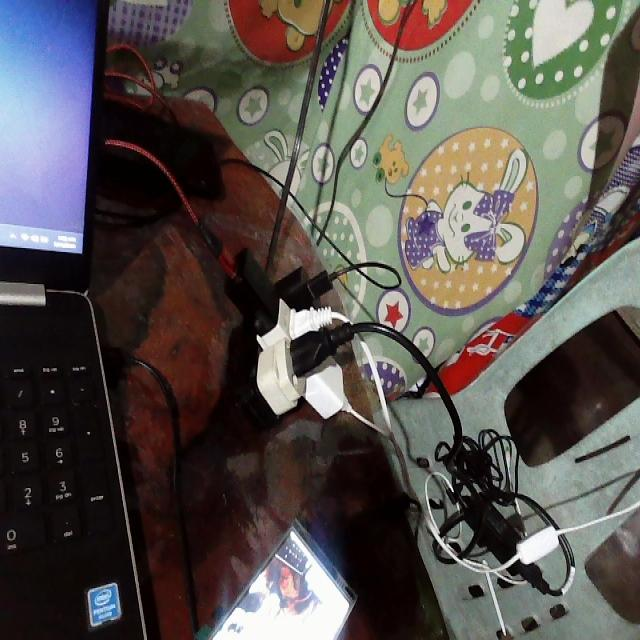-: (219, 241, 357, 432)
